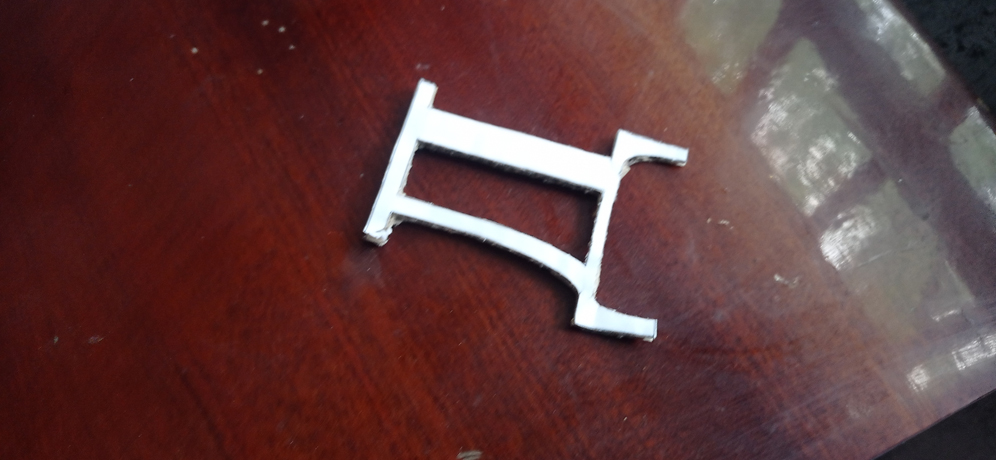d: (360, 75, 688, 352)
